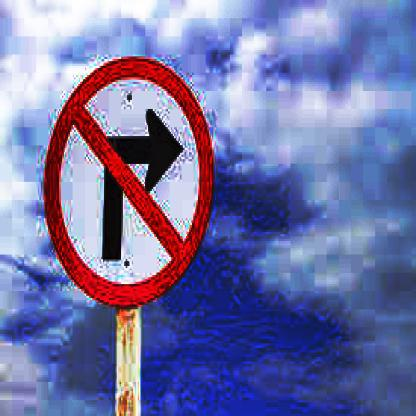No right turn: (42, 51, 220, 314)
